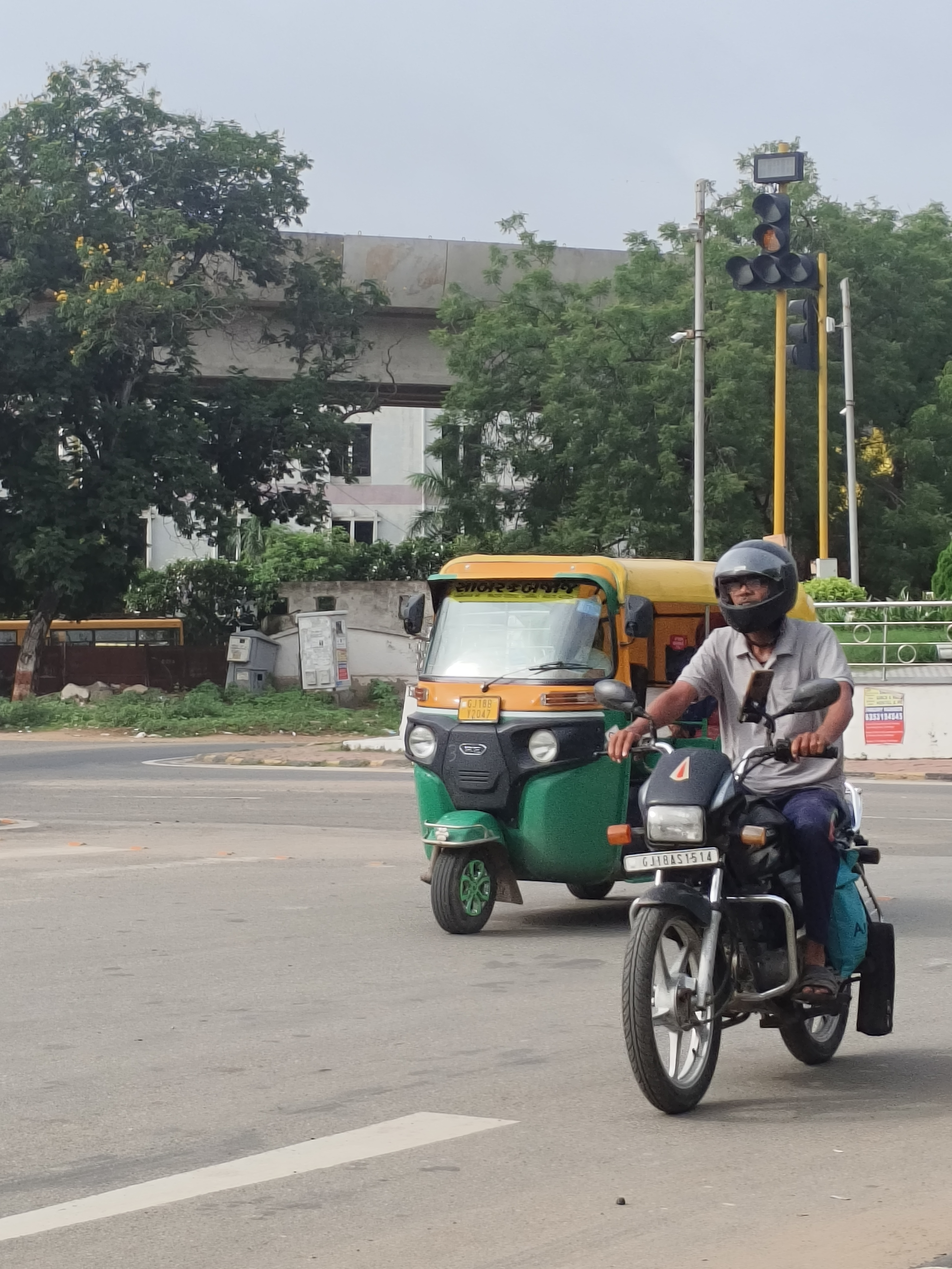BikeWithRider: (571, 520, 923, 1129)
Helmet: (703, 537, 805, 641)
